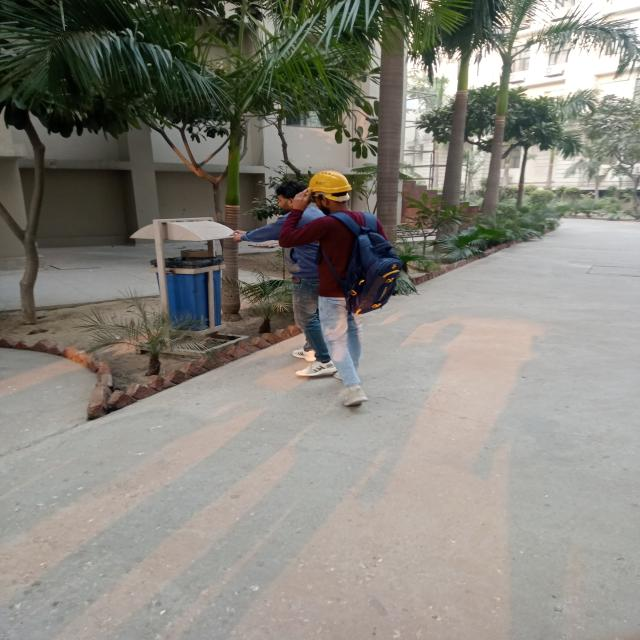no jacket: (280, 170, 400, 404)
unsafe: (238, 178, 330, 377)
